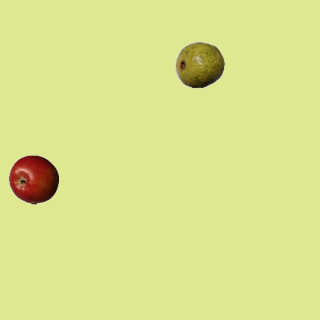Apple Braeburn: (8, 154, 58, 204)
Guava: (174, 39, 224, 89)
